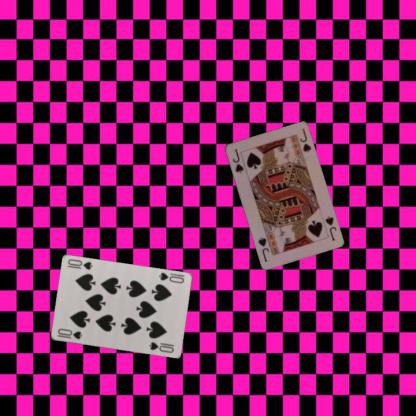10s: (156, 270, 185, 285), (55, 326, 83, 341)
Js: (322, 213, 338, 242), (230, 146, 245, 175)
